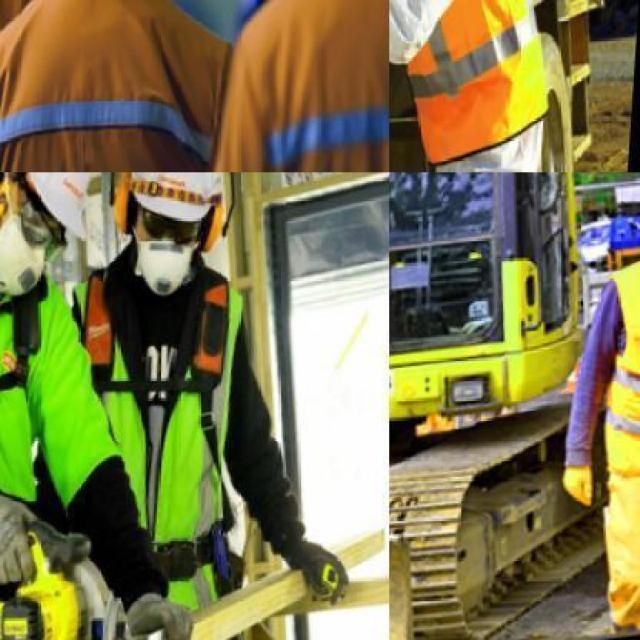Vest: (56, 248, 282, 628), (0, 0, 258, 171), (389, 0, 580, 171), (235, 0, 388, 171)
